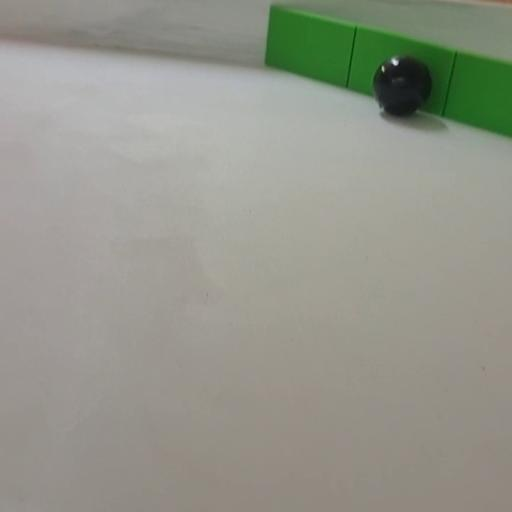dead: (371, 52, 436, 119)
